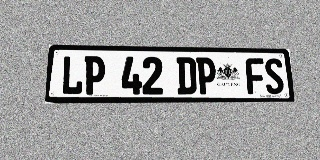2: (143, 57, 163, 94)
4: (121, 56, 142, 95)
D: (176, 57, 197, 94)
F: (245, 58, 266, 94)
L: (61, 56, 84, 95)
P: (83, 56, 105, 95), (196, 57, 217, 94)
S: (264, 58, 285, 94)
